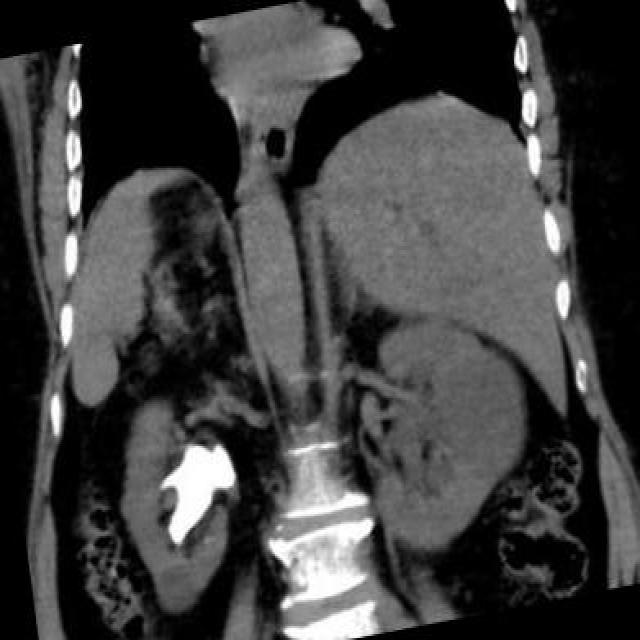Tas_Var: (130, 430, 246, 554)
